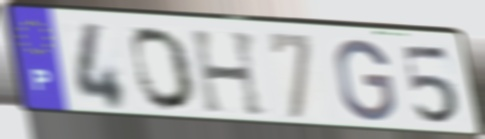4: (73, 19, 129, 112)
5: (399, 42, 462, 125)
7: (267, 29, 318, 123)
G: (333, 36, 399, 124)
H: (188, 28, 270, 120)
O: (129, 25, 199, 114)
